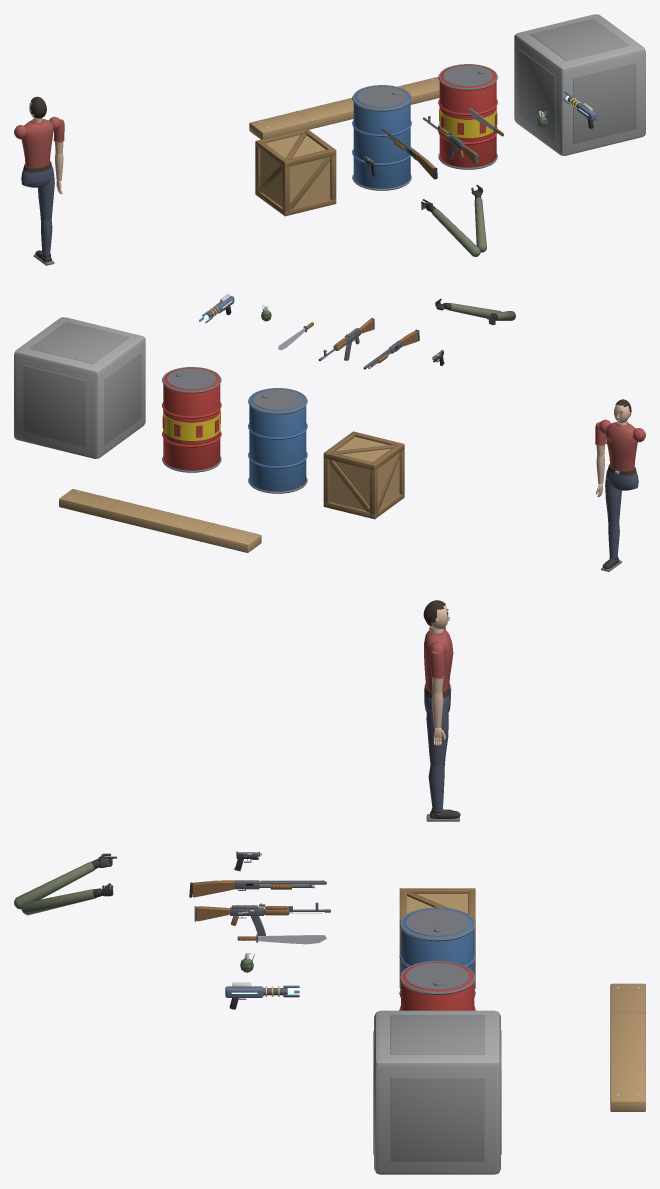
Rendered from models.glb.
The picture shows the model from 3 angles, top to bottom: view 1: azimuth 30°, elevation 25°; view 2: azimuth 150°, elevation 25°; view 3: azimuth 270°, elevation 25°; orthographic projection. The views are drawn at different scales.
Parts seen in each view (by area): view 1: Block, Crate, Barrel, ExplosiveBarrel, Plank, Torso, HandR, Pelvis, Rifle, HandL, Thigh, Shin (+2 smaller); view 2: Block, Crate, ExplosiveBarrel, Barrel, Plank, Torso, Pelvis, Rifle, Thigh, Shin, HandL, Shotgun (+1 smaller); view 3: Block, Plank, Barrel, ExplosiveBarrel, Crate, Rifle, Shotgun, HandR, Torso, HandL, GrabGun, Shin (+1 smaller).
Part boxes in pixels (x1,y1,x2,y2): Block: (514, 14, 645, 155); Crate: (255, 128, 336, 216); Barrel: (352, 85, 411, 190); ExplosiveBarrel: (438, 64, 497, 169); Plank: (249, 77, 439, 139); Torso: (14, 116, 60, 167); HandR: (421, 199, 480, 256); Pelvis: (21, 161, 53, 187); Rifle: (423, 116, 478, 165); HandL: (471, 184, 486, 252); Thigh: (38, 174, 54, 221); Shin: (33, 220, 54, 265); Block: (14, 317, 145, 458); Crate: (323, 431, 404, 519); ExplosiveBarrel: (162, 367, 221, 472); Barrel: (248, 388, 307, 493); Plank: (59, 489, 261, 552); Torso: (599, 419, 645, 470); Pelvis: (606, 464, 638, 490); Rifle: (318, 318, 374, 361); Thigh: (605, 477, 621, 525); Shin: (601, 522, 621, 571); HandL: (435, 298, 501, 320); Shotgun: (363, 329, 419, 369); Block: (373, 1010, 501, 1174); Plank: (610, 983, 645, 1111); Barrel: (399, 907, 475, 997); ExplosiveBarrel: (399, 961, 475, 1010); Crate: (399, 888, 475, 988); Rifle: (194, 902, 330, 935); Shotgun: (189, 880, 326, 897); HandR: (14, 853, 116, 909); Torso: (424, 626, 453, 691); HandL: (21, 883, 113, 915); GrabGun: (225, 982, 299, 1009); Shin: (426, 765, 460, 821).
Bounding box in the file's own units: 7.07 × 1.85 × 4.97.
